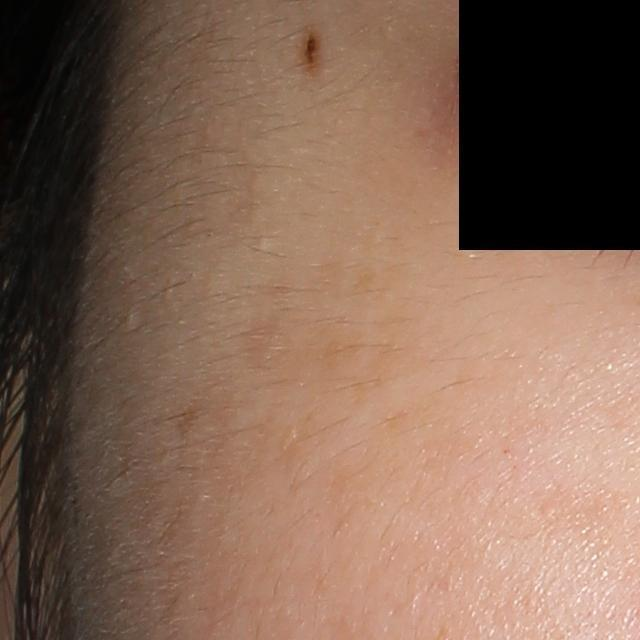nevus: (302, 29, 317, 67)
